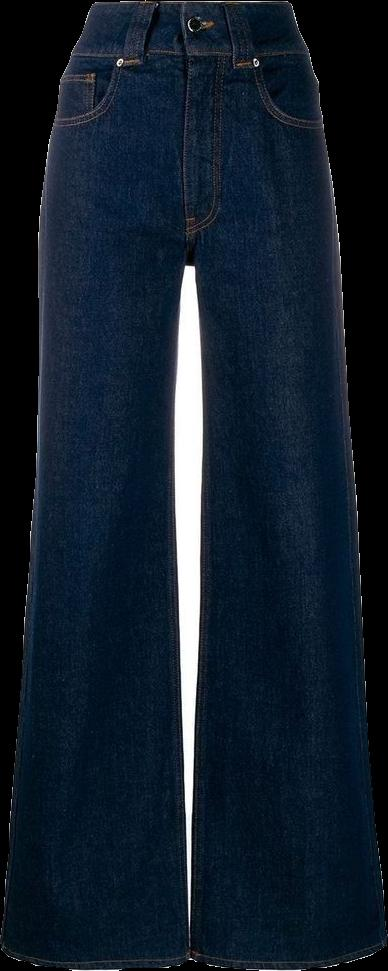Hemline: (193, 935, 387, 969), (0, 941, 190, 969)
Pantleg: (175, 0, 387, 967), (0, 0, 188, 967)
Waistline: (68, 44, 309, 62), (89, 0, 289, 14)
